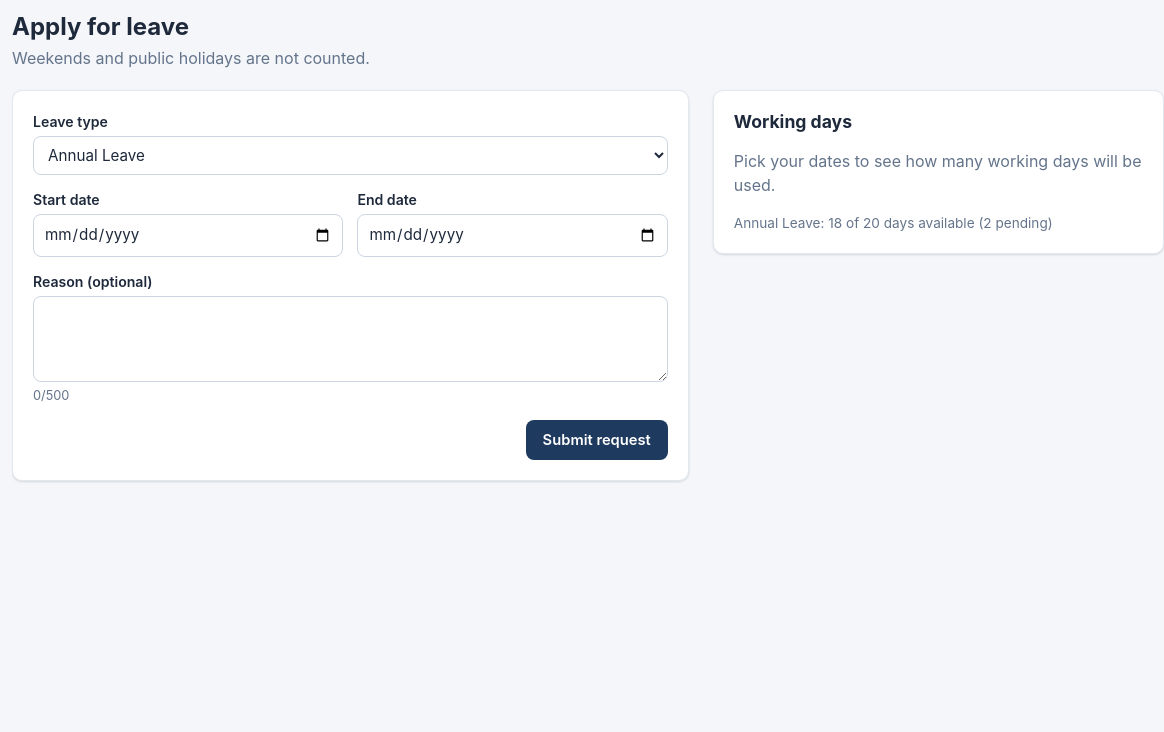
Test: ApplyLeavePage › requires dates before submitting
This screenshot has width=1164, height=732.
Step 1. Click the button "Submit request" → (597, 440), box [526,420,668,460]
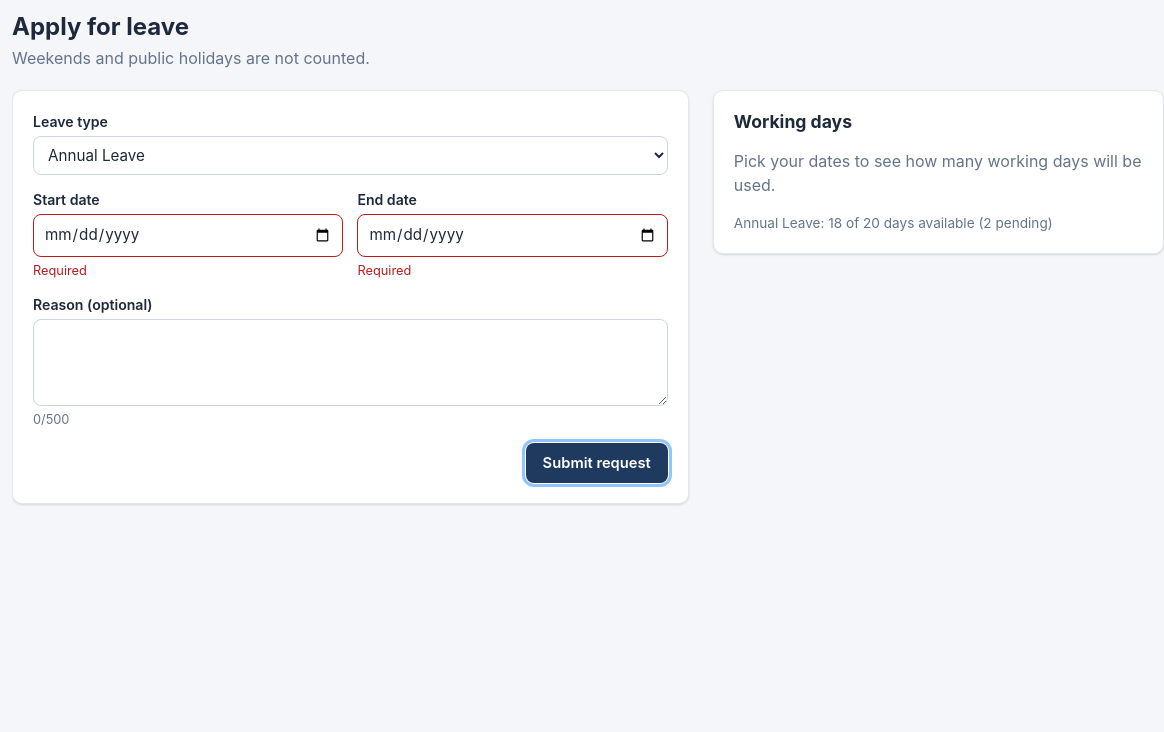
Result: the text "Required" is shown 2 times at [33,263,87,278]; [357,263,411,278]
